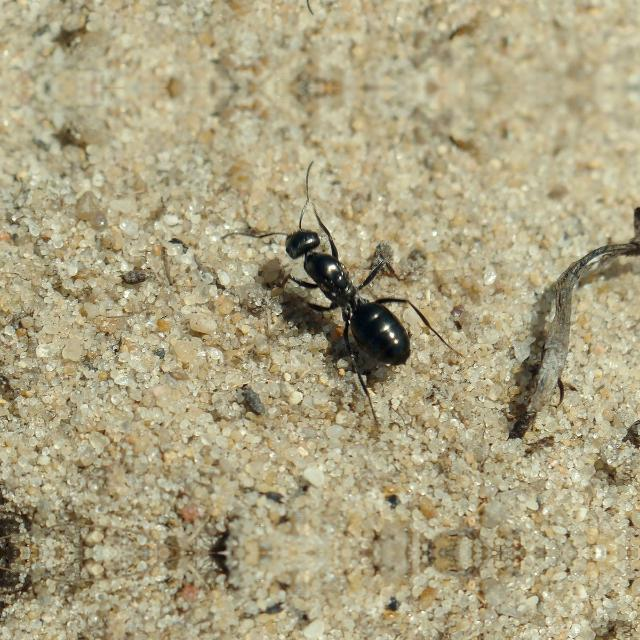Cataglyphis: (242, 192, 450, 380)
